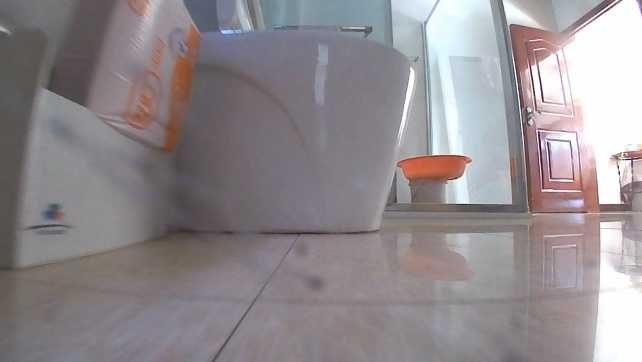door_anno: (509, 21, 594, 213)
toilet: (164, 23, 419, 235)
